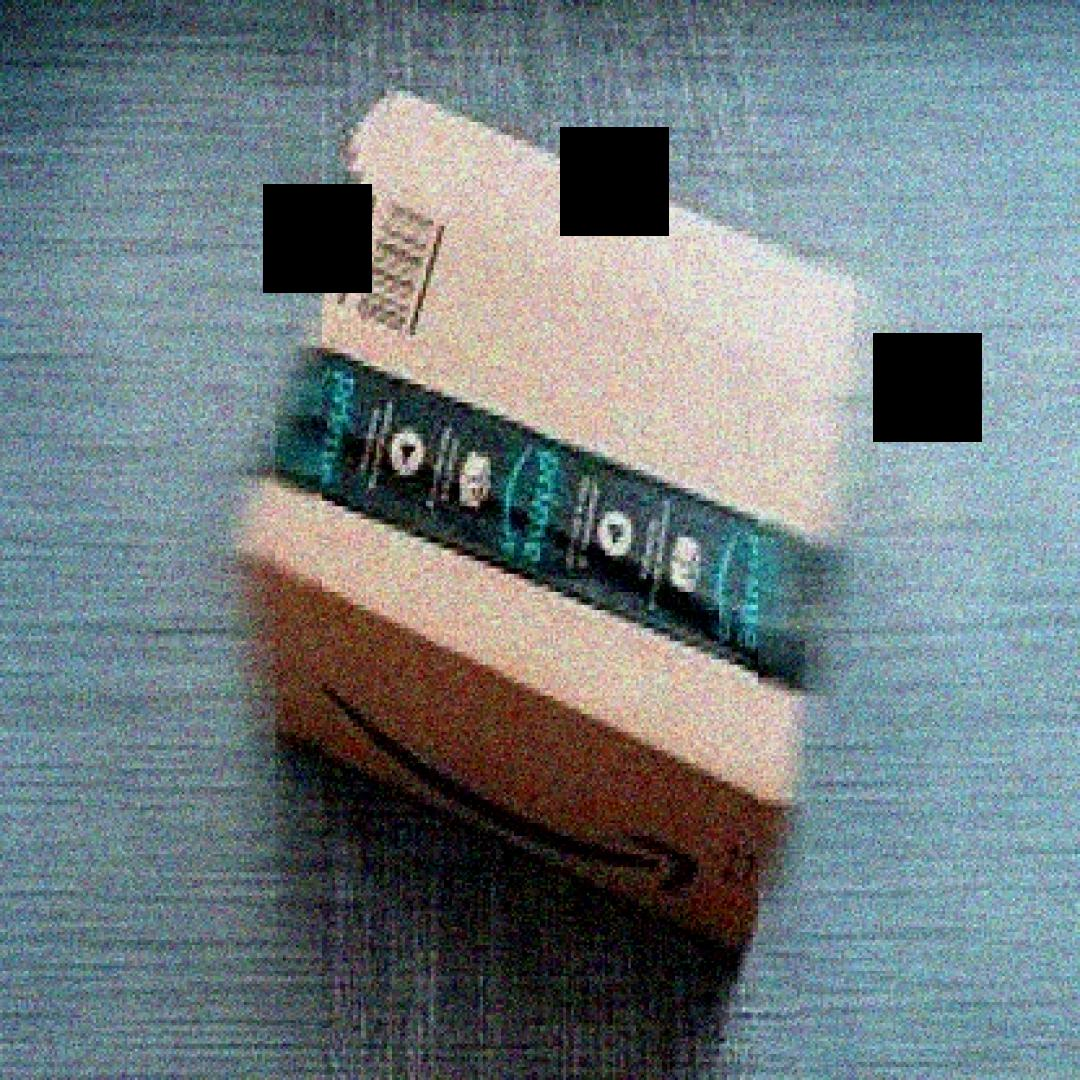package: (242, 88, 874, 982)
